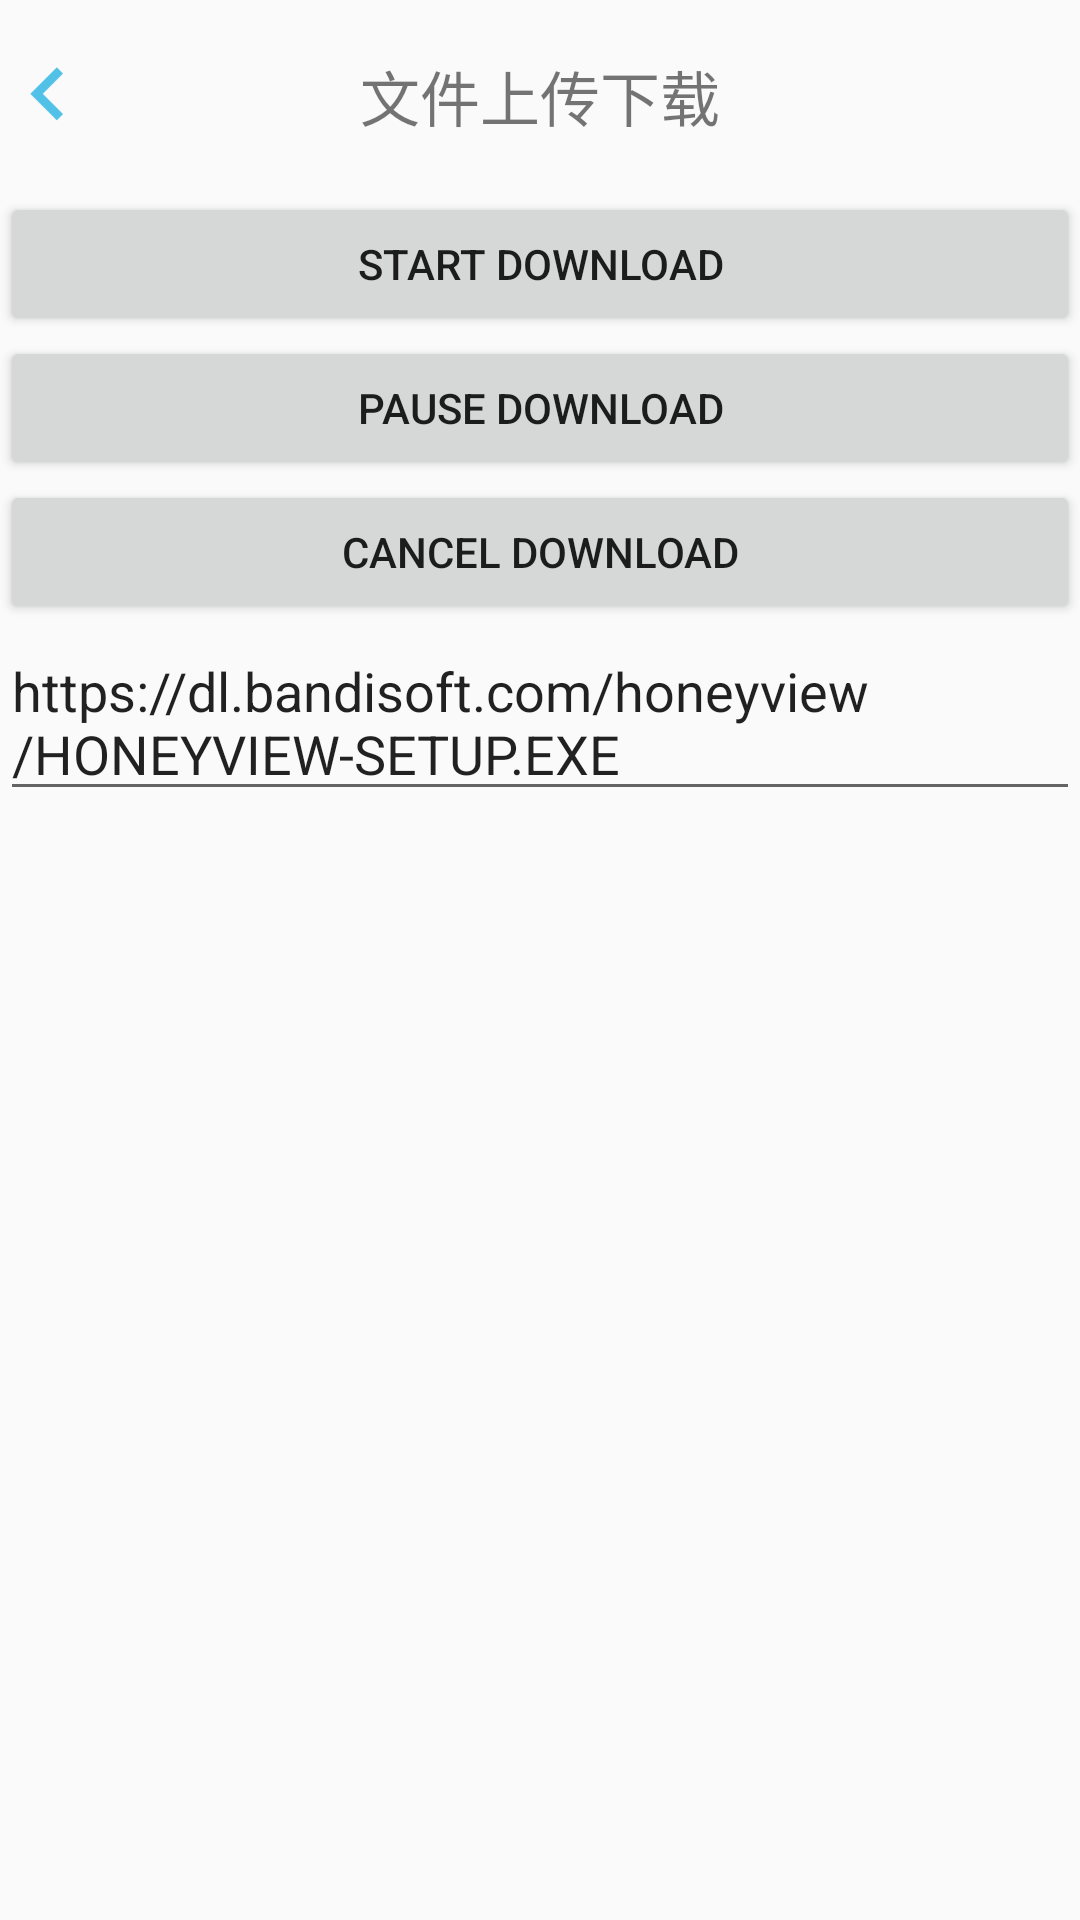

Icons on this 1080w x 1920h Android screen, each with its box as bbox=[x1, y1, x2, y2]:
left: bbox=[30, 67, 63, 120]
